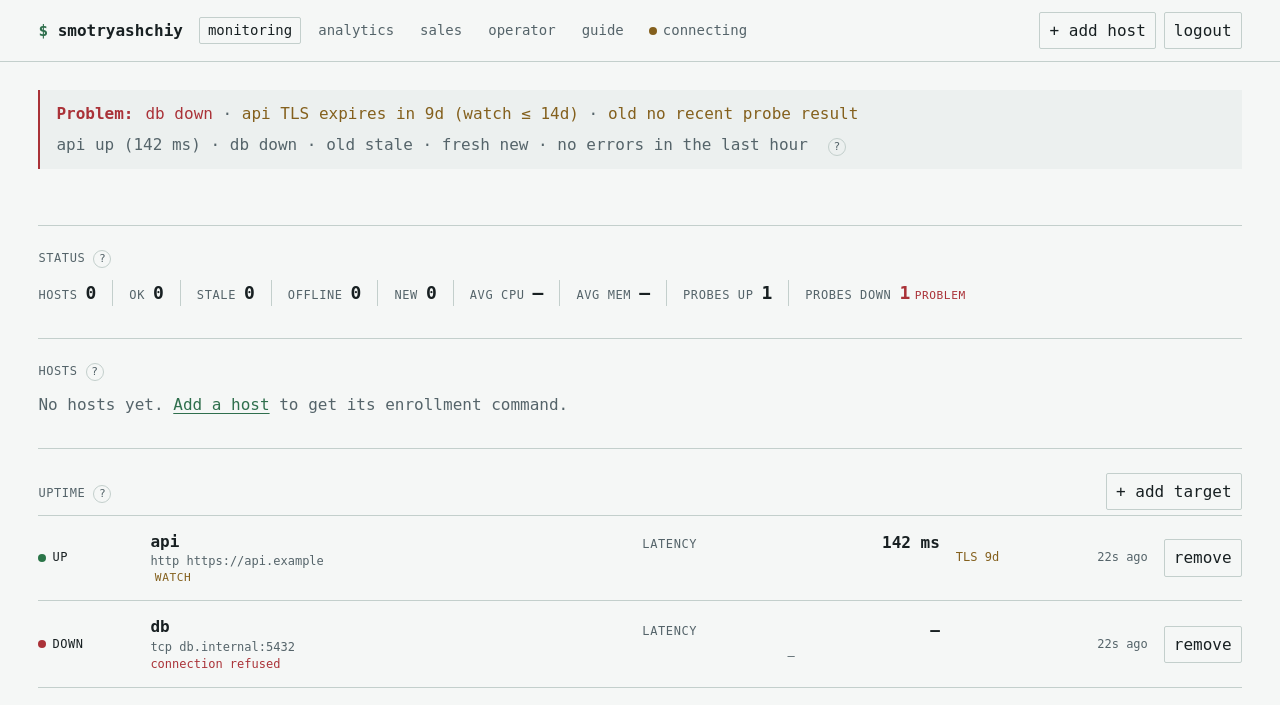
add target dialog › creates an http target with the entered values
Click the button "+ add target" at (1174, 491), box x1=1106 y1=473 x2=1242 y2=510
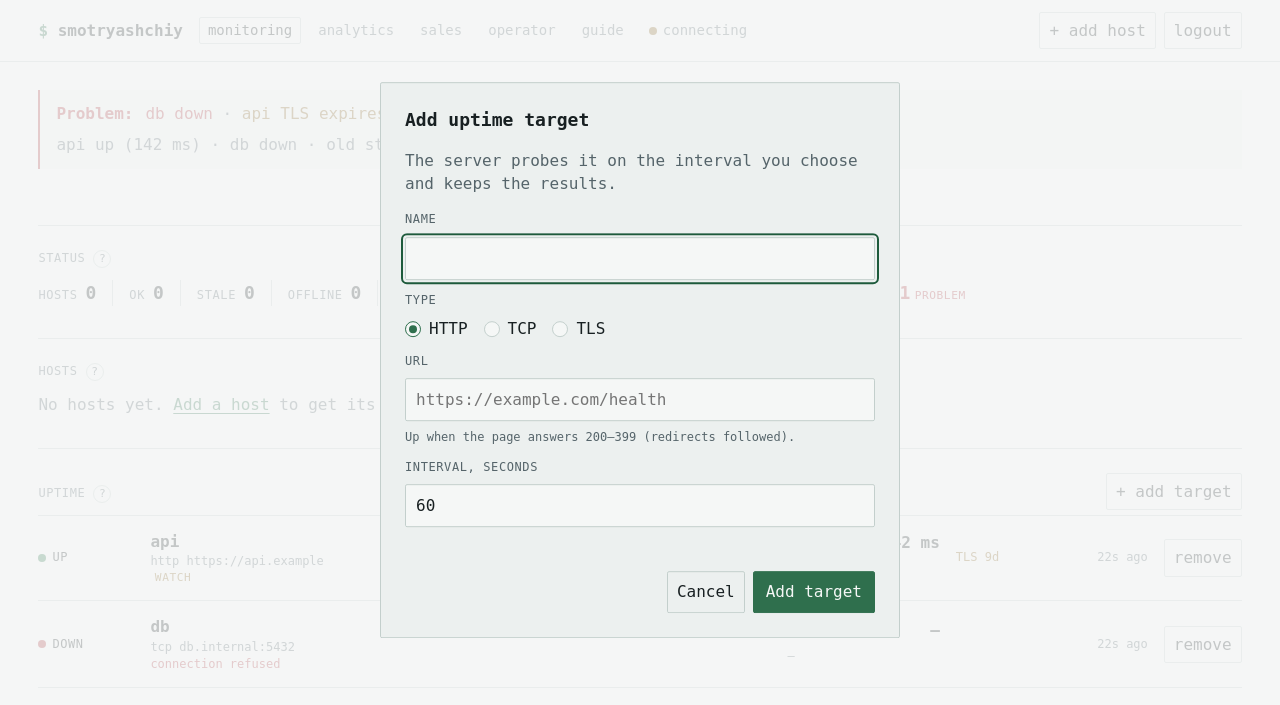
Type "shop" into the field labelled "Name" at (640, 259), box x1=405 y1=237 x2=875 y2=280
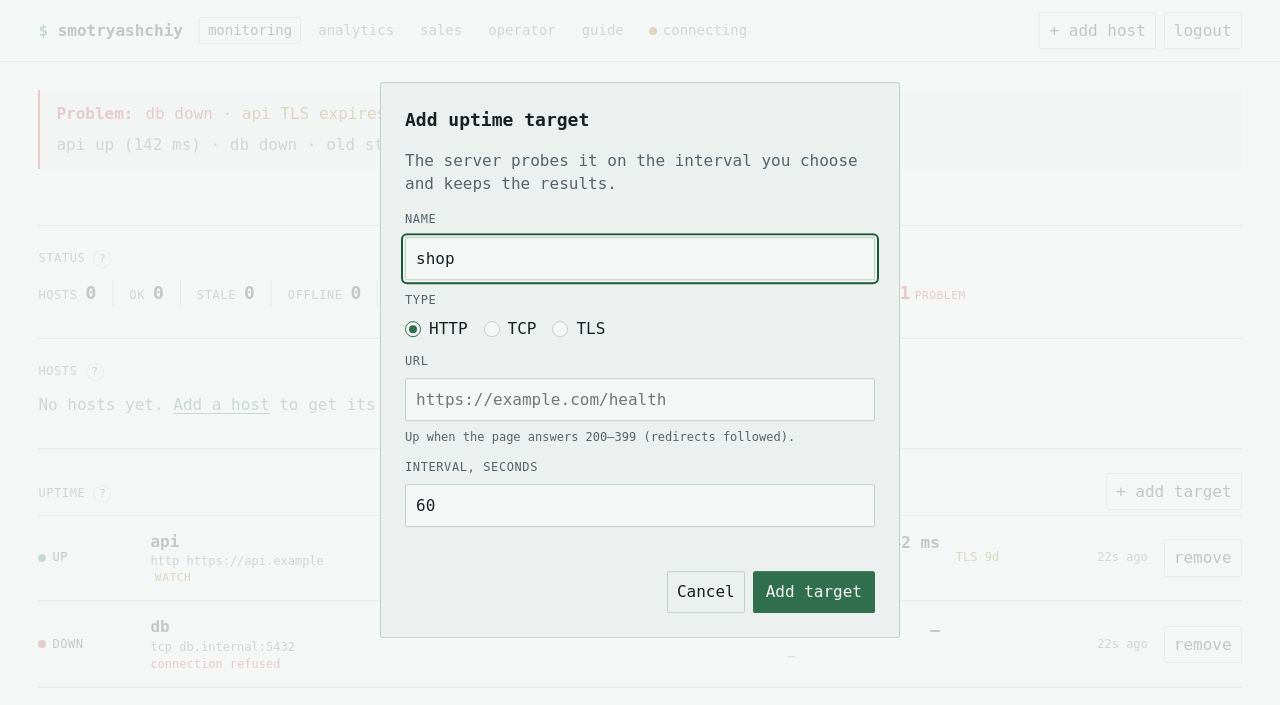
Type "https://shop.example/health" into the field labelled "URL" at (640, 400), box x1=405 y1=378 x2=875 y2=421
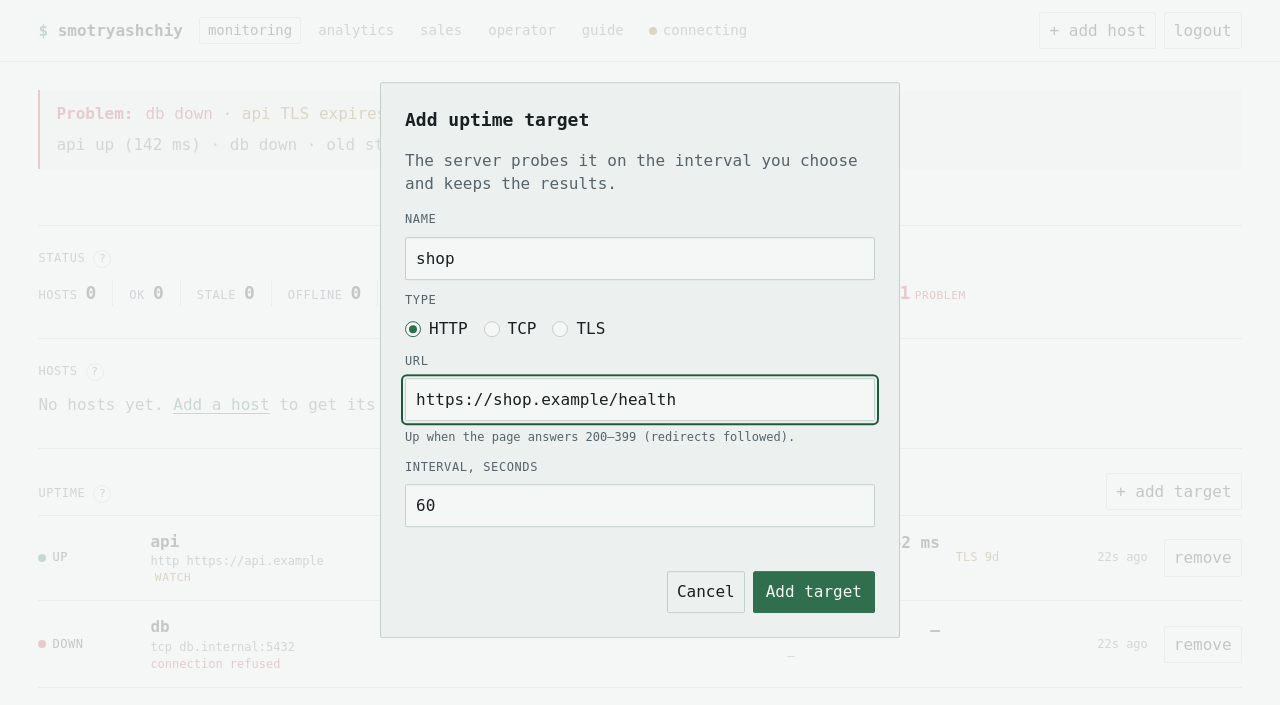
Click the button "Add target" at (814, 592), box x1=753 y1=572 x2=875 y2=613
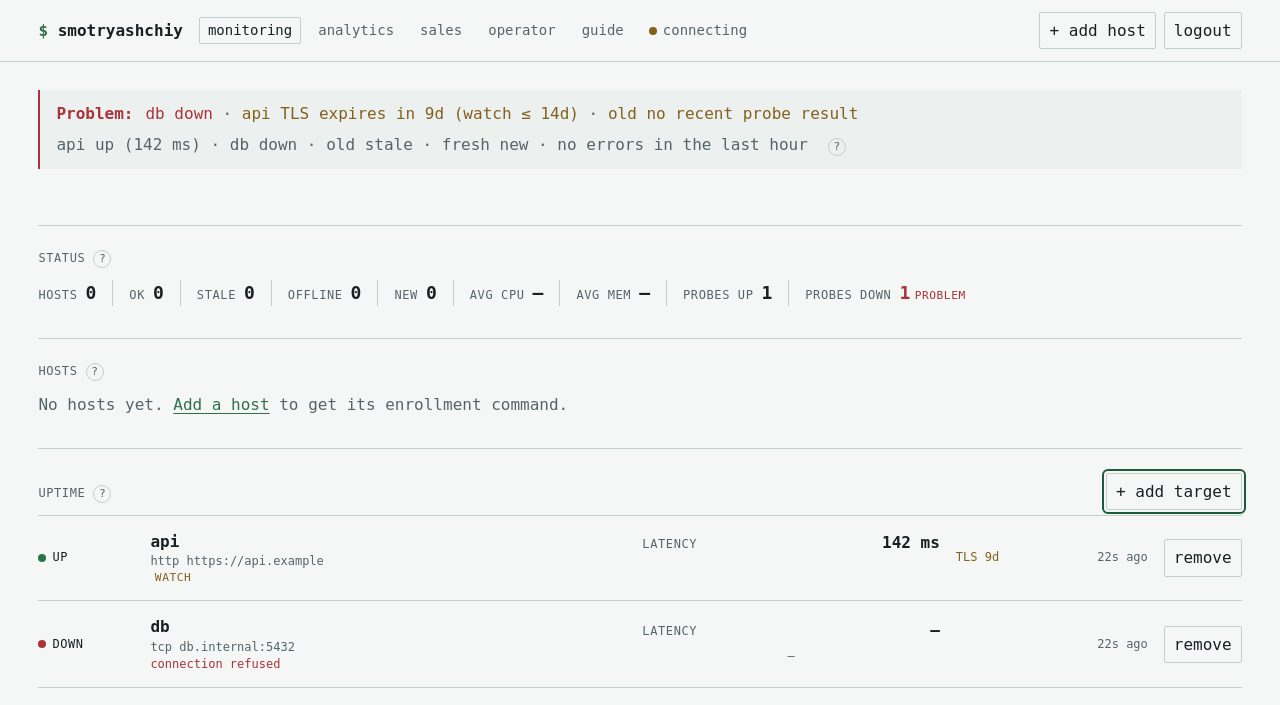
Now the dialog is gone
